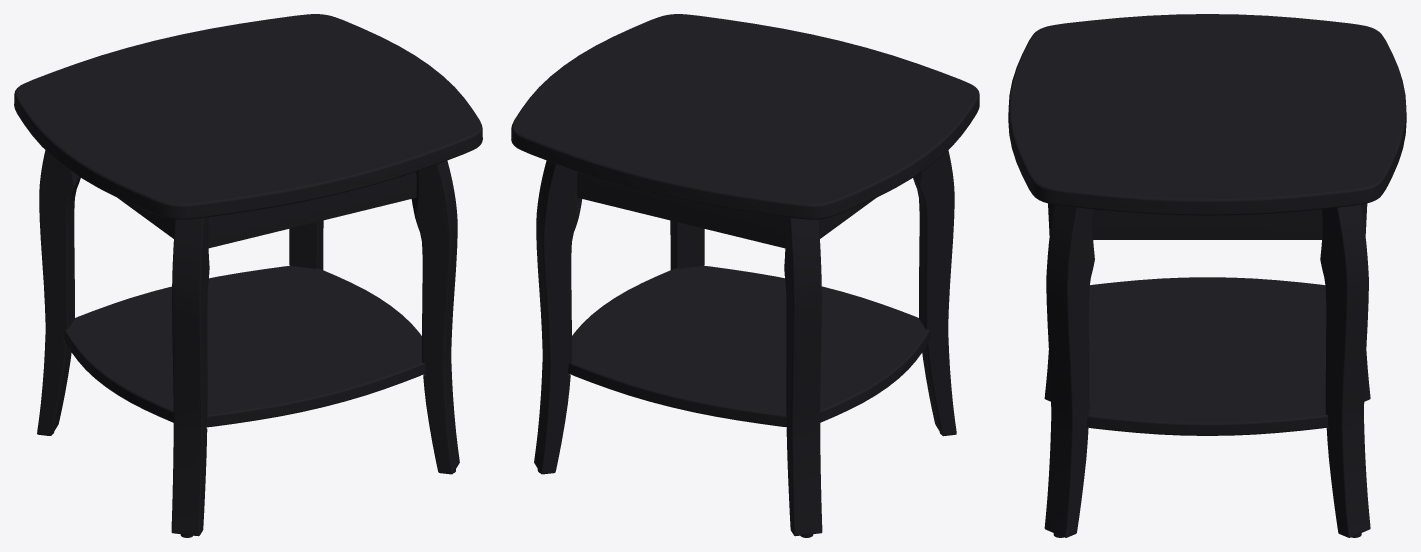
The model's file is table_B07F3XLTRH.glb.
3 renders of one model, left to right at view 1: azimuth 30°, elevation 25°; view 2: azimuth 150°, elevation 25°; view 3: azimuth 270°, elevation 25°, orthographic. The views are drawn at different scales.
Parts seen in each view (by area): view 1: RootNode; view 2: RootNode; view 3: RootNode.
Part boxes in pixels (x1,y1,x2,y2): RootNode: [14, 14, 482, 537]; RootNode: [511, 14, 979, 537]; RootNode: [1008, 14, 1406, 537].
Size of the model in its own units: 0.5076 by 0.4574 by 0.4567.
1 material, 1 textured.
